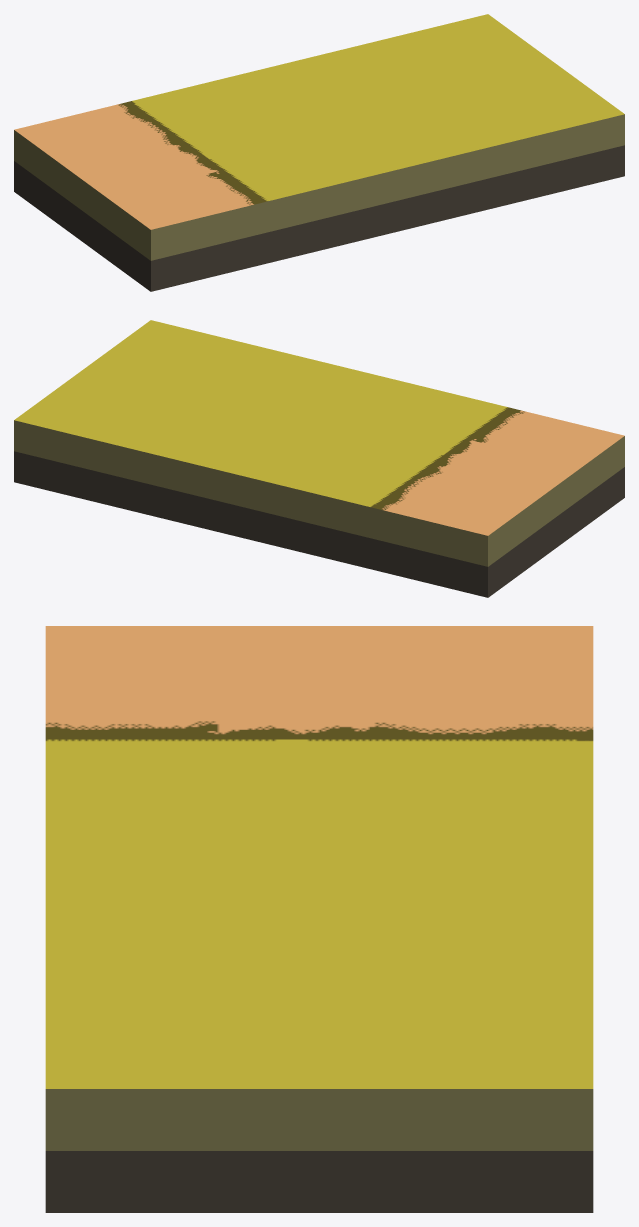
File: tile2_1 sand top.fbx
3 views of the same model, one above another, from view 1: azimuth 30°, elevation 25°; view 2: azimuth 150°, elevation 25°; view 3: azimuth 270°, elevation 25° (orthographic). The views are drawn at different scales.
Visible parts, largest first — view 1: Cube.003; view 2: Cube.003; view 3: Cube.003.
Boxes of the visible parts, x1,y1,x2,y2 form: Cube.003: (14,14,624,291); Cube.003: (14,320,624,597); Cube.003: (45,626,593,1212).
Size of the model in its own units: 400 by 50 by 200.
Materials: 1 (1 with a texture image).
